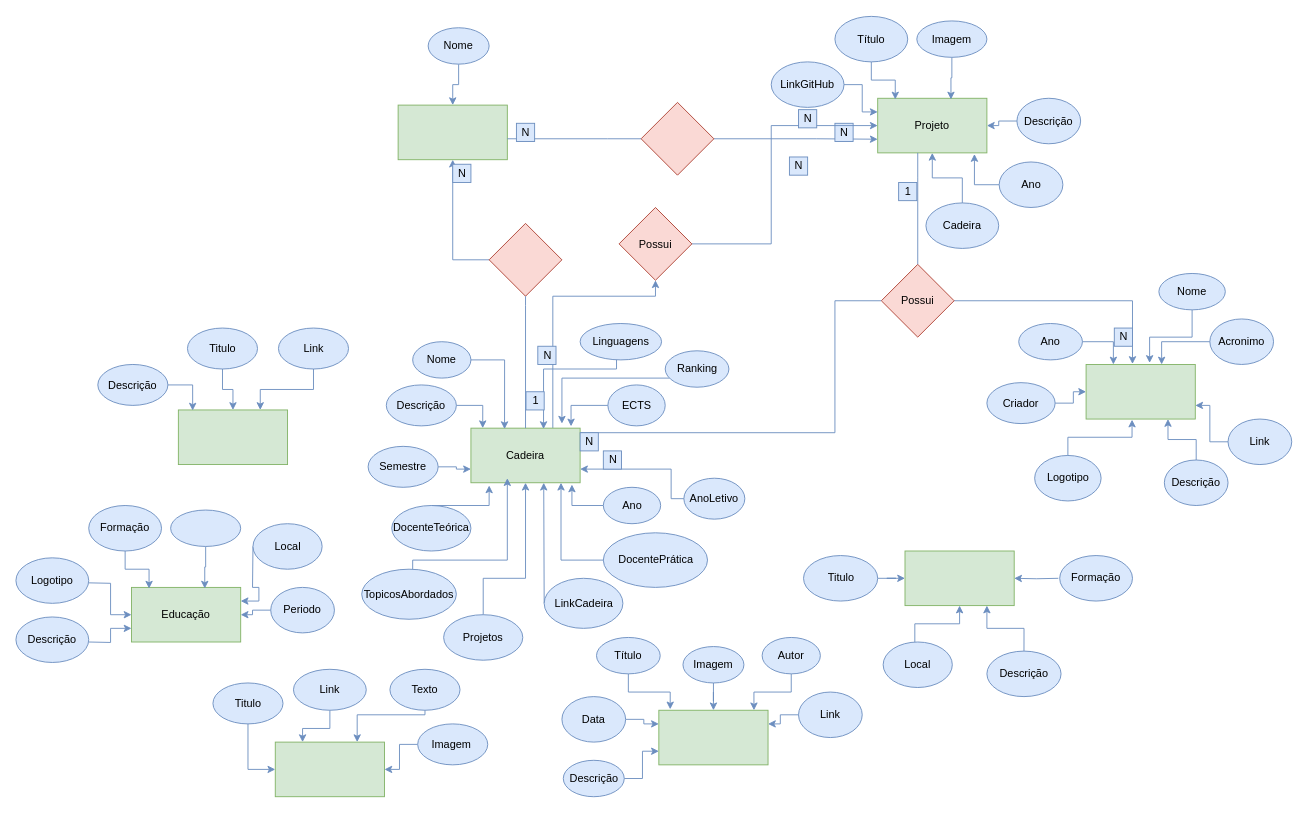
This 1308x813 diagram has some shape labels left out. Each missing label, with the box of its shape:
Certificacao: (904, 550, 1014, 606)
Curso: (170, 509, 241, 546)
Lab: (177, 409, 288, 465)
Noticia: (274, 741, 384, 797)
Post: (658, 709, 768, 765)
Professor: (397, 104, 507, 160)
Realiza: (640, 101, 714, 175)
Tecnologia: (1085, 364, 1195, 419)
É praticada por: (488, 222, 562, 296)
